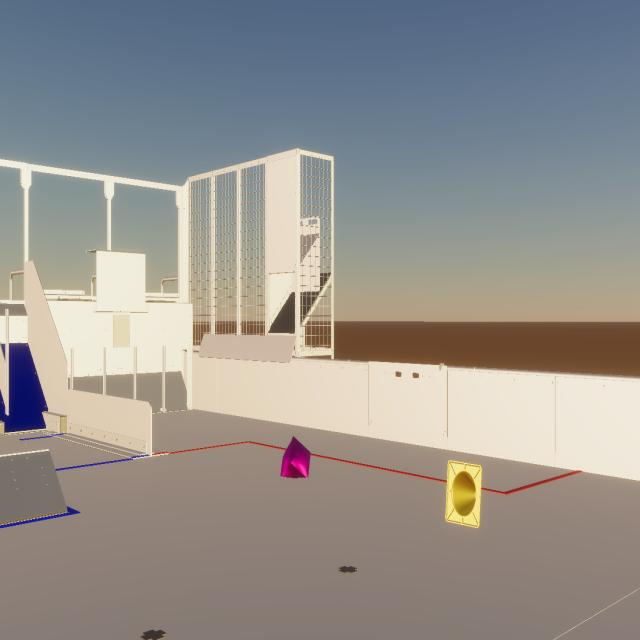frc_cone: (445, 460, 482, 528)
frc_cube: (280, 436, 311, 478)
